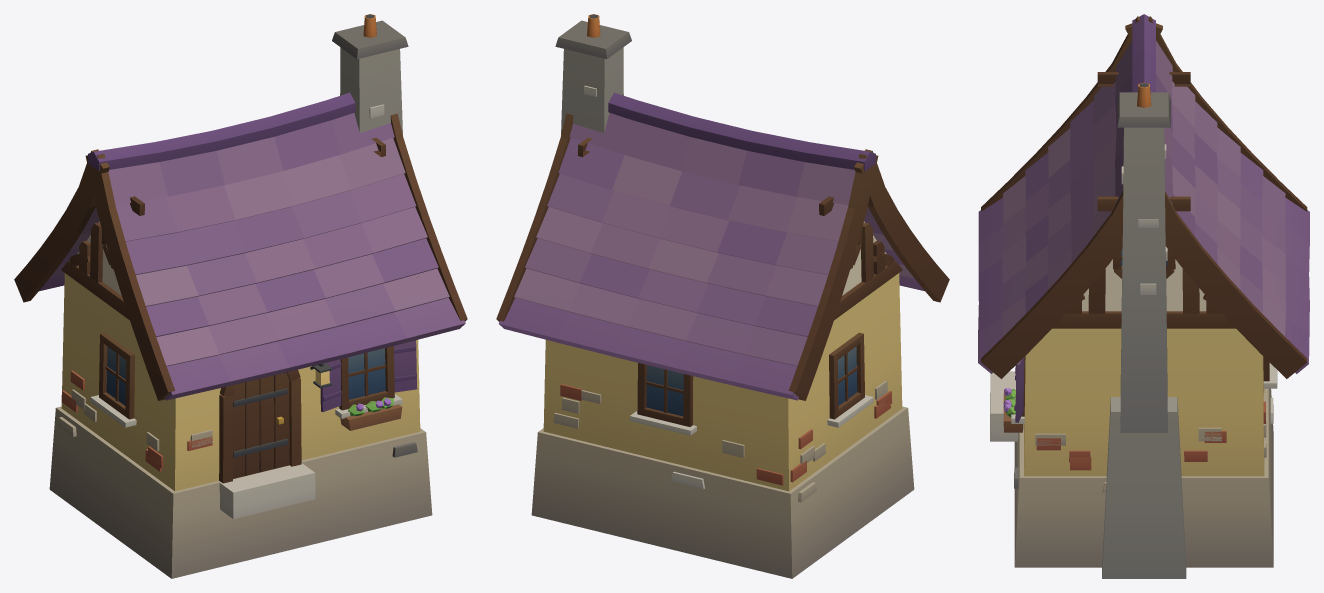
Rendered from house_18_tiny_cottage.glb.
The picture shows the model from 3 angles, left to right: view 1: azimuth 30°, elevation 25°; view 2: azimuth 150°, elevation 25°; view 3: azimuth 270°, elevation 25°; orthographic projection. The views are drawn at different scales.
Parts seen in each view (by area): view 1: house_18_tiny_cottage; view 2: house_18_tiny_cottage; view 3: house_18_tiny_cottage.
Part boxes in pixels (left/top/right/bottom): house_18_tiny_cottage: left=14, top=14, right=467, bottom=578; house_18_tiny_cottage: left=496, top=14, right=949, bottom=578; house_18_tiny_cottage: left=978, top=14, right=1309, bottom=578.
Bounding box in the file's own units: 19.52 × 27.57 × 17.2.
1 material, 1 textured.
